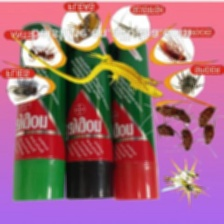aerosol_cans: (7, 20, 69, 202), (60, 31, 117, 201), (106, 36, 162, 204)
